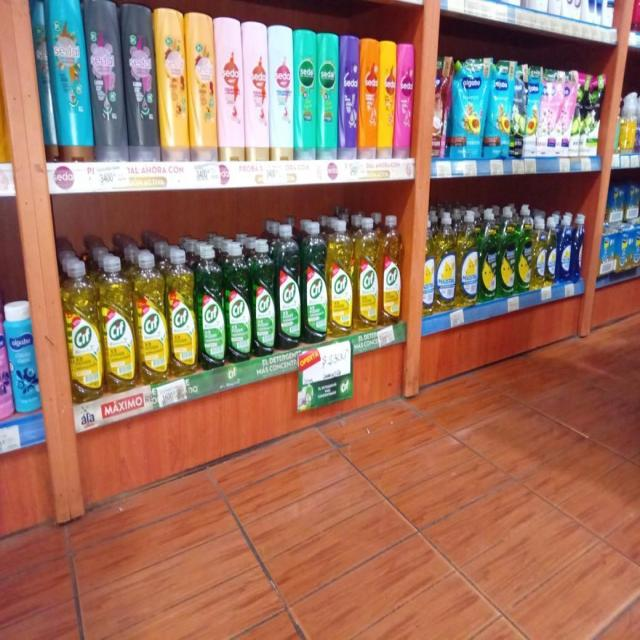cif_conc_bot_amarilla: (65, 257, 101, 402), (102, 254, 134, 393), (136, 249, 166, 385), (168, 247, 196, 377), (328, 218, 353, 337), (355, 215, 379, 331), (380, 214, 402, 326)
cif_conc_botella_verde: (197, 245, 225, 370), (302, 220, 327, 344), (276, 224, 300, 350), (226, 242, 250, 364), (252, 238, 275, 358)
magistral_con_amarillo: (436, 210, 456, 311), (458, 208, 478, 306), (517, 205, 532, 291), (424, 212, 434, 316), (533, 214, 546, 288), (546, 215, 557, 285)
magistral_con_azul: (558, 213, 572, 283)
